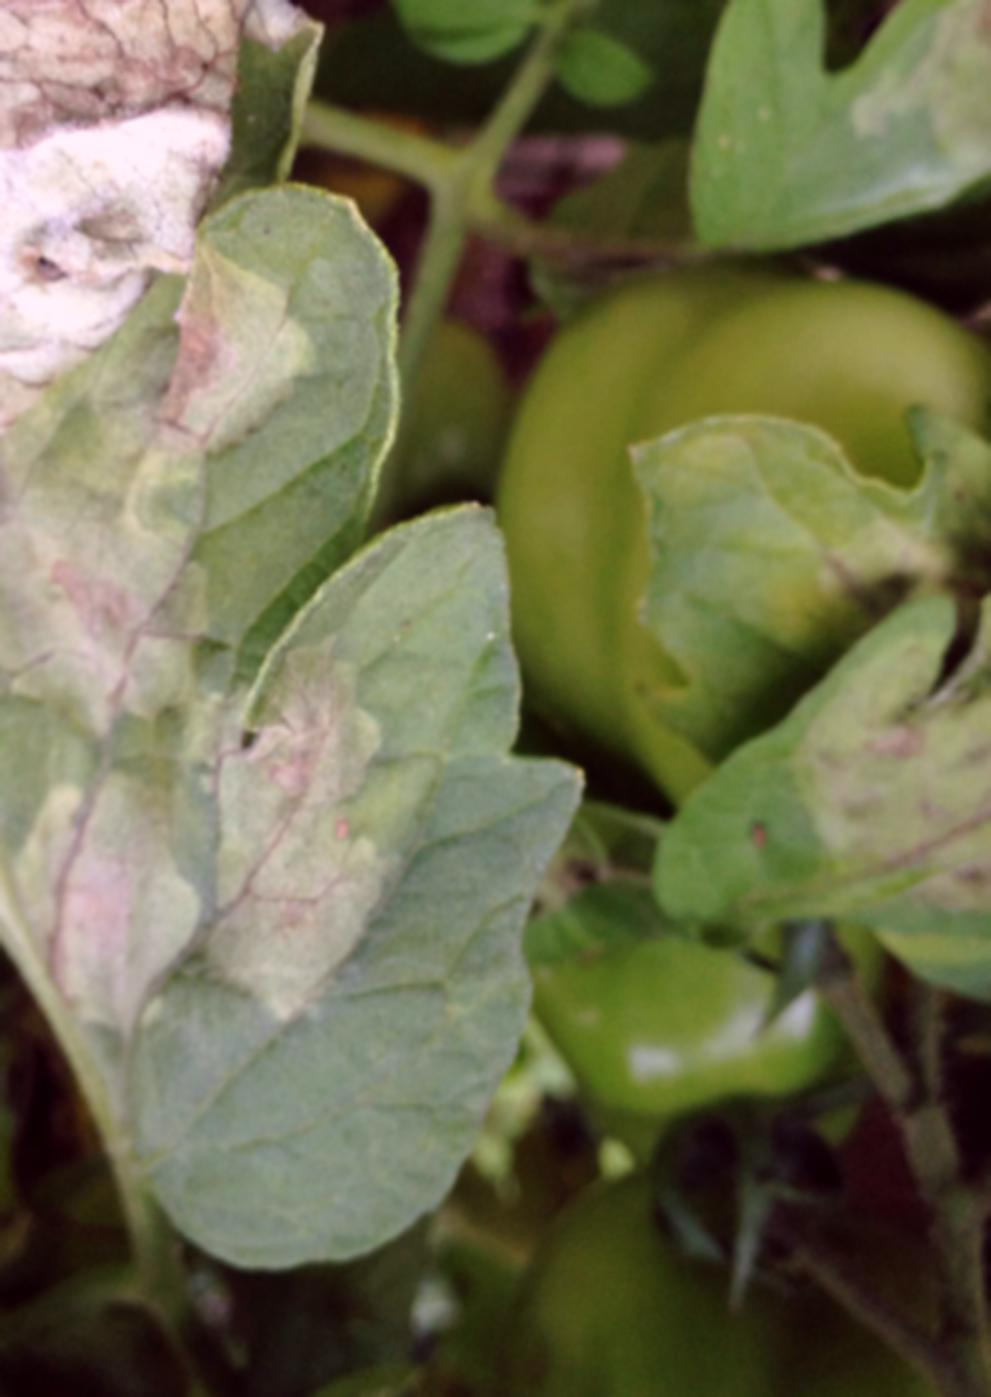Tomato leaf late blight: (114, 461, 573, 1344), (0, 157, 425, 1044), (656, 471, 991, 962), (559, 0, 991, 321)
